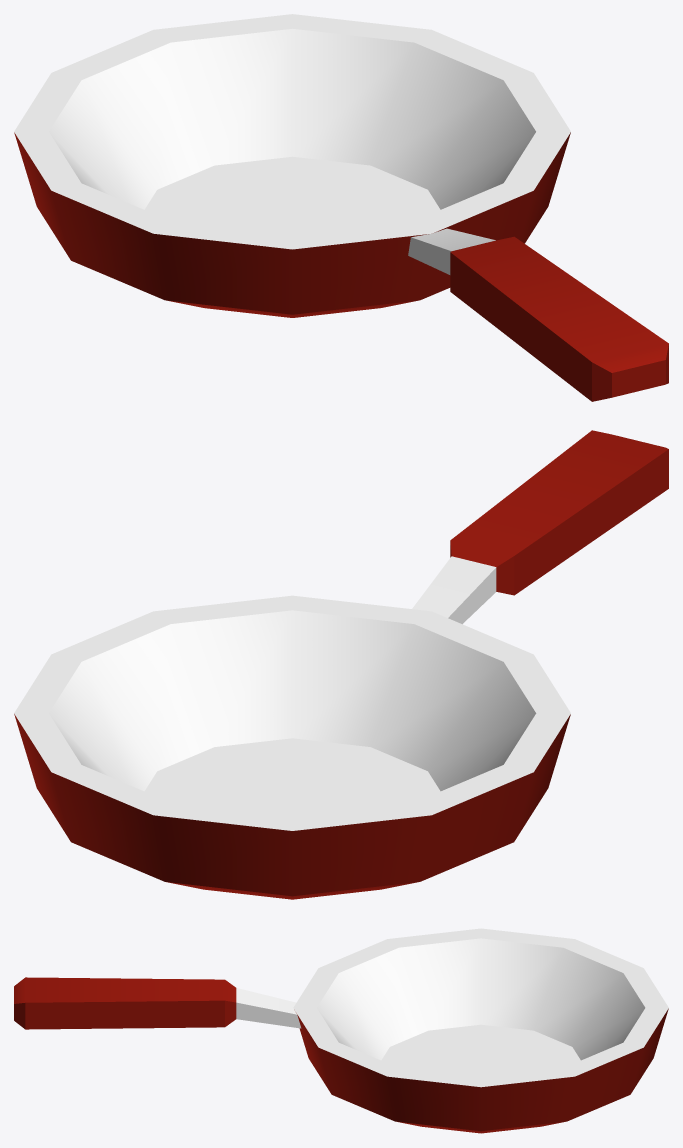
Rendered from SM_Pan_01.fbx.
3 views of the same model, one above another, from view 1: azimuth 30°, elevation 25°; view 2: azimuth 150°, elevation 25°; view 3: azimuth 270°, elevation 25° (orthographic). The views are drawn at different scales.
Parts seen in each view (by area): view 1: SM_Pan_01; view 2: SM_Pan_01; view 3: SM_Pan_01.
Part boxes in pixels (x1,y1,x2,y2): SM_Pan_01: (14, 14, 668, 401); SM_Pan_01: (14, 430, 668, 899); SM_Pan_01: (14, 928, 668, 1133).
Bounding box in the file's own units: 19.69 × 5.37 × 34.32.
